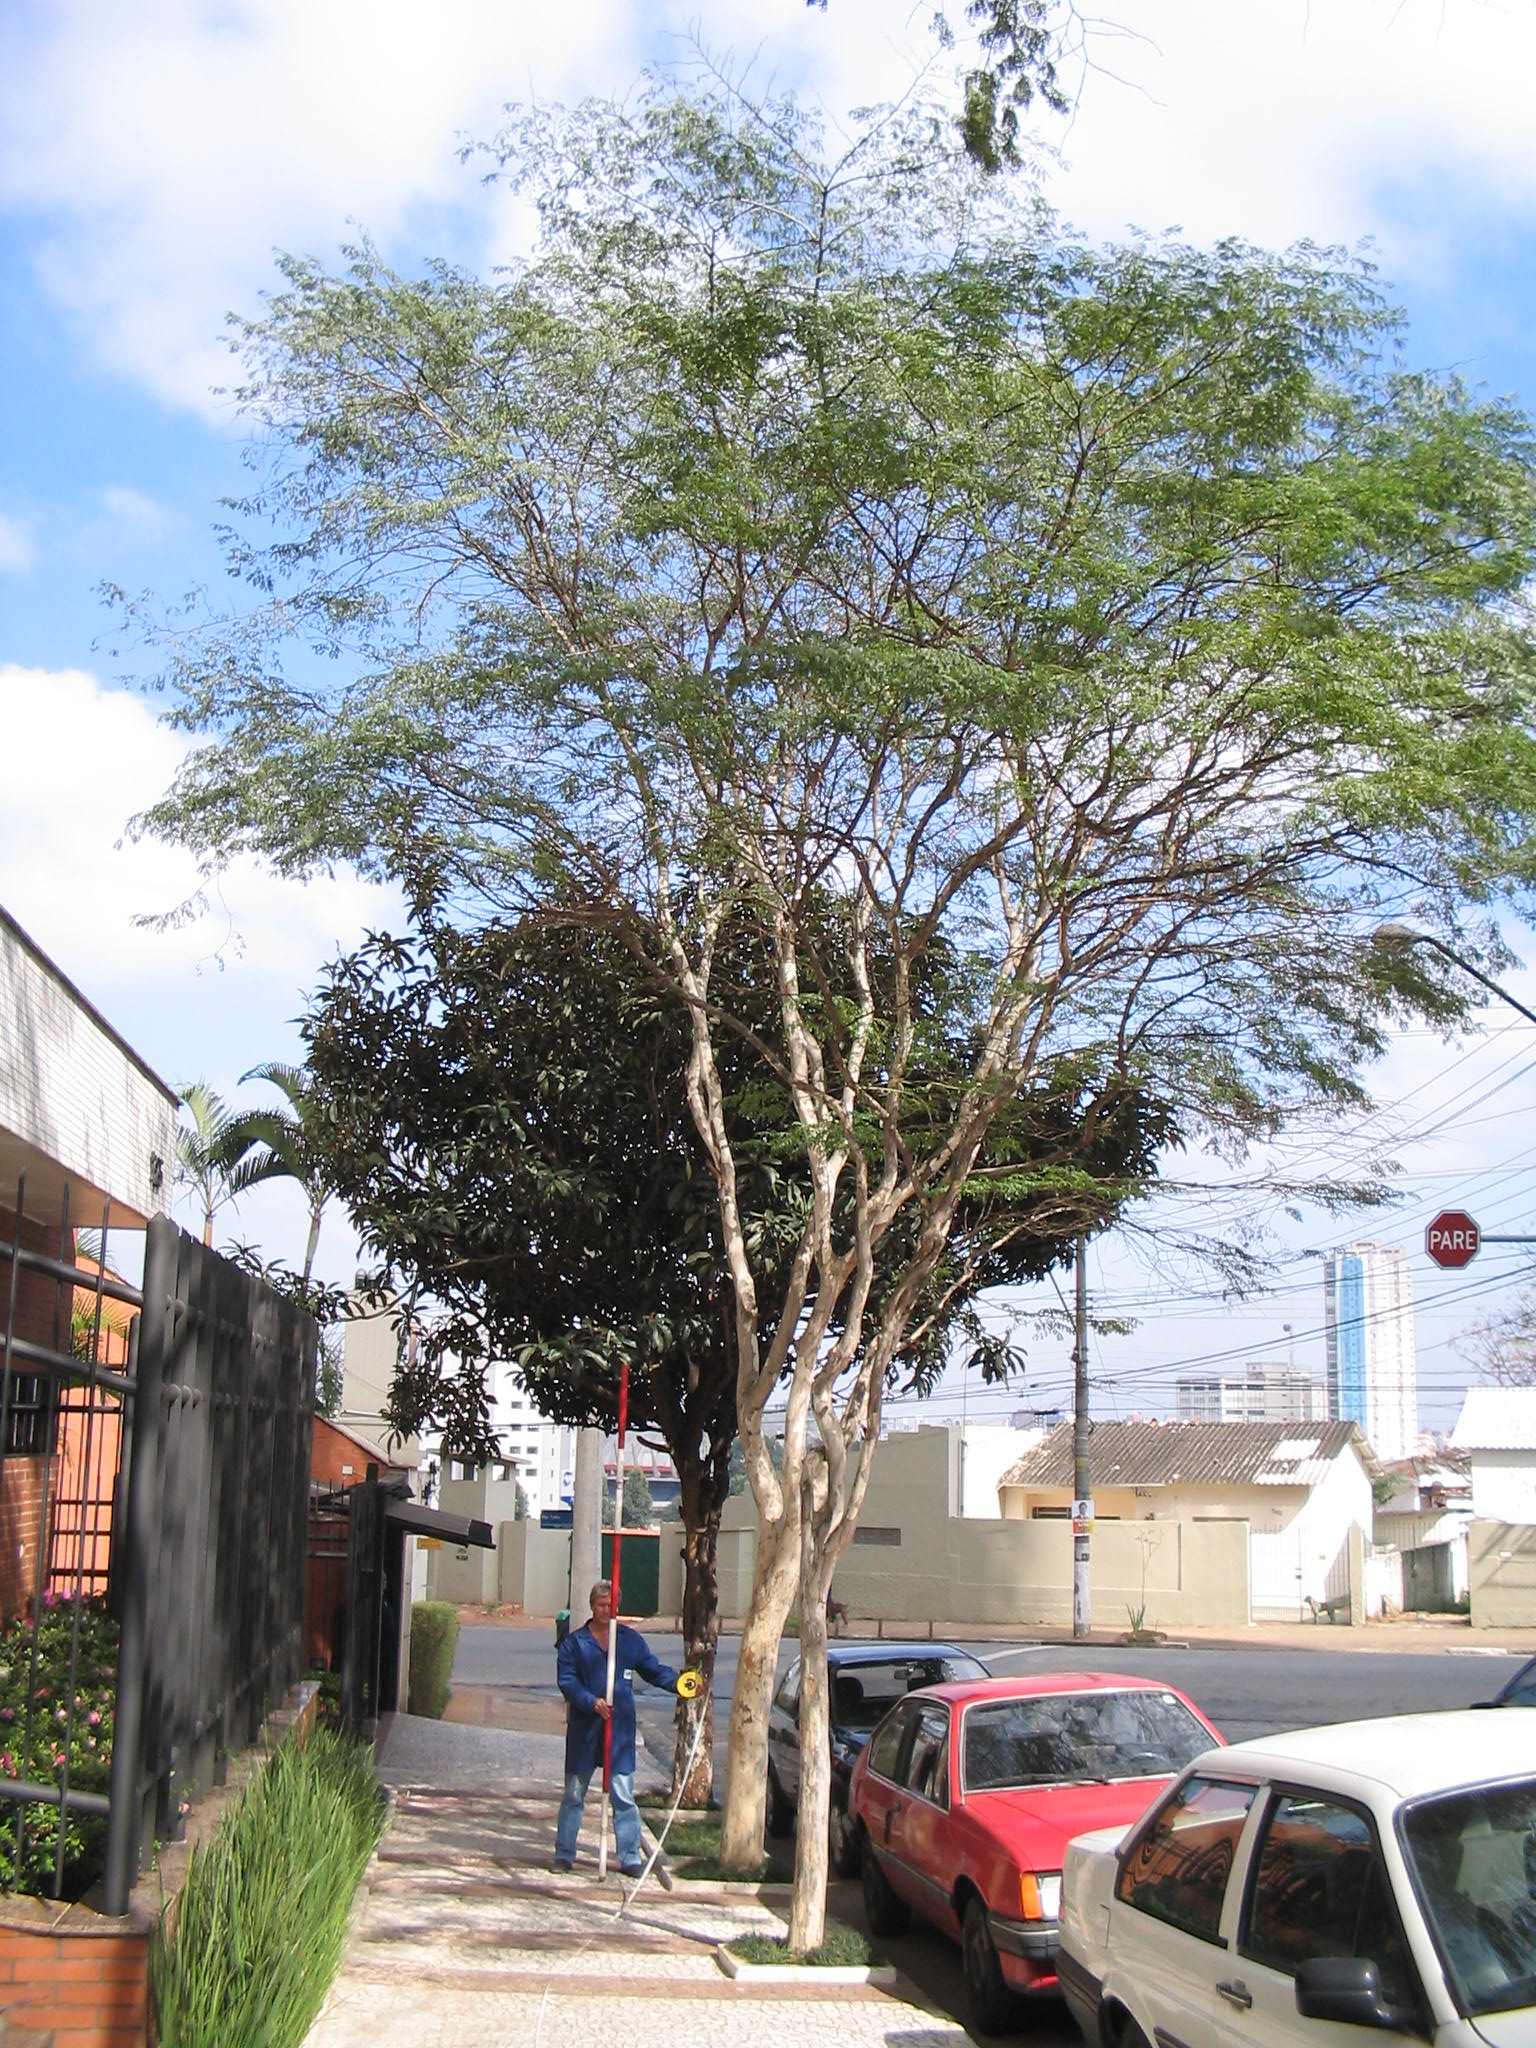crown: (110, 74, 1531, 1303), (294, 900, 1175, 1466)
stem: (781, 1579, 886, 1953), (712, 1508, 799, 1879), (653, 1516, 733, 1803)
stick: (570, 1367, 641, 1884)
tree: (102, 66, 1536, 1954), (282, 897, 1178, 1816)
